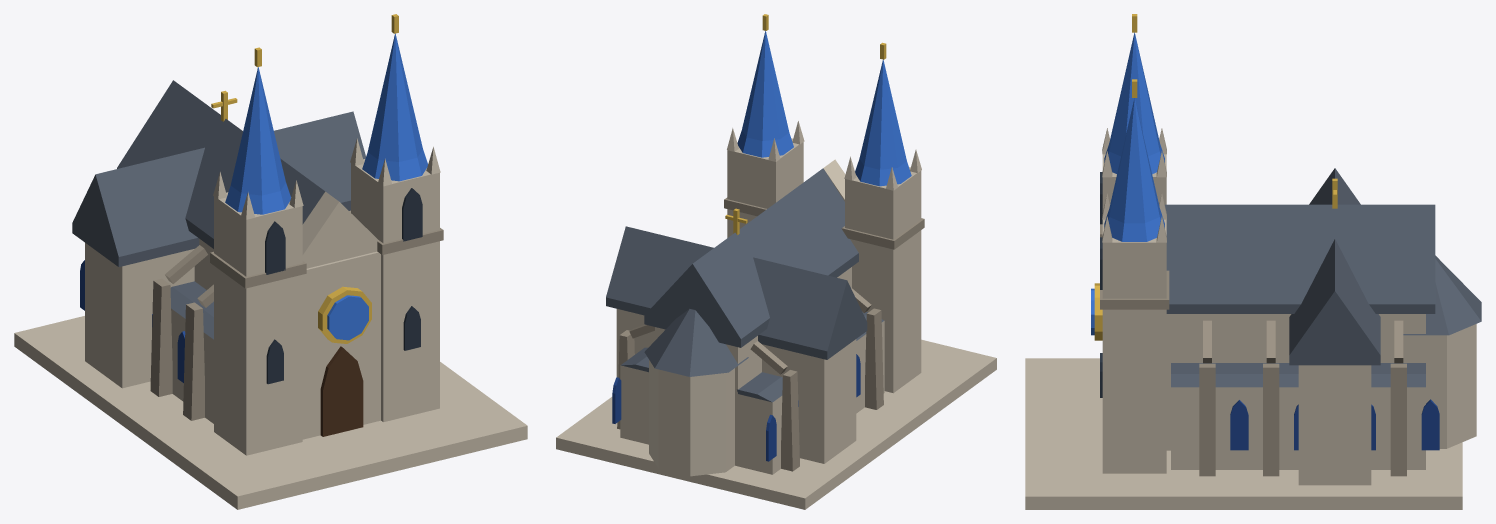
File: bld_cathedral.glb
3 views of the same model, side by side, from view 1: azimuth 30°, elevation 25°; view 2: azimuth 150°, elevation 25°; view 3: azimuth 270°, elevation 25° (orthographic). The views are drawn at different scales.
Parts seen in each view (by area): view 1: bld_cathedral; view 2: bld_cathedral; view 3: bld_cathedral.
Part boxes in pixels (box(x1,y1,x2,y2)): bld_cathedral: box(14, 14, 527, 509); bld_cathedral: box(556, 14, 996, 509); bld_cathedral: box(1025, 14, 1481, 509).
Size of the model in its own units: 0.36 by 0.476 by 0.501.
